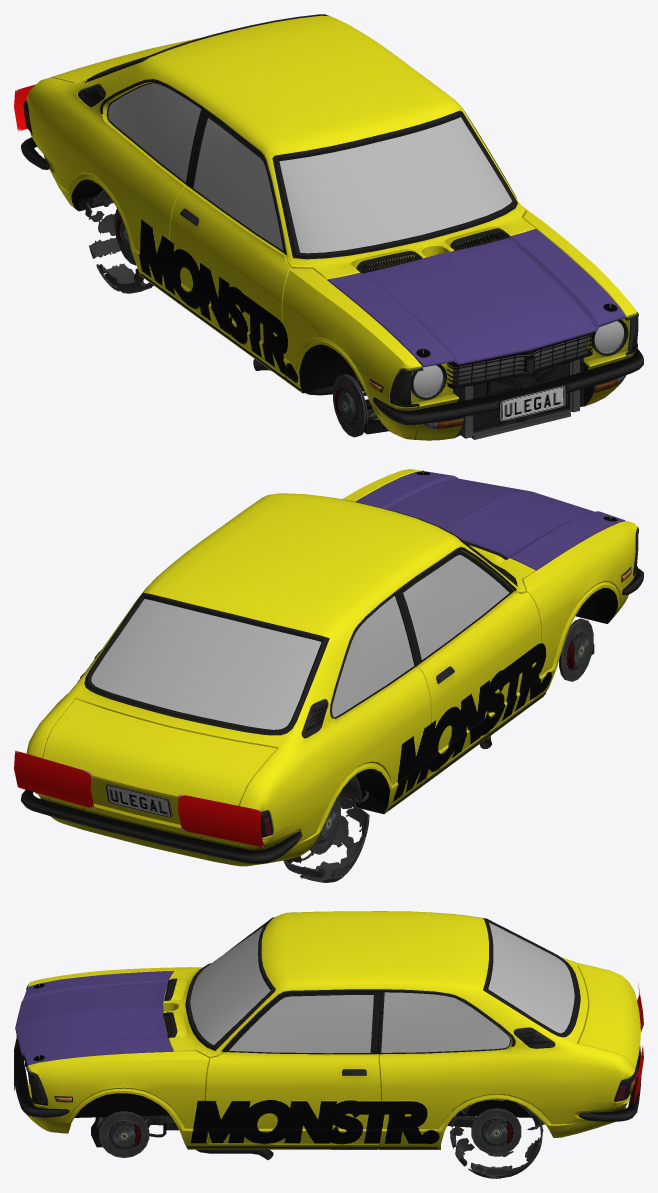
Rendered from 41_ULEGAL.fbx.
3 renders of one model, top to bottom at view 1: azimuth 30°, elevation 25°; view 2: azimuth 150°, elevation 25°; view 3: azimuth 270°, elevation 25°, orthographic. The views are drawn at different scales.
Visible parts, largest first — view 1: body_duco, body_glass, Kit_02, body_glossy, body_matte, engine_bay, Rotor, NumberPlate; view 2: body_duco, body_glass, body_glossy, Kit_02, BrakeLights, body_matte, Rotor (×2), NumberPlate; view 3: body_duco, body_glass, Kit_02, body_glossy, body_matte, Rotor (×2).
Part boxes in pixels (left/top/right/bottom): body_duco: left=26, top=15, right=637, bottom=440; body_glass: left=108, top=83, right=624, bottom=396; Kit_02: left=327, top=229, right=625, bottom=367; body_glossy: left=21, top=14, right=643, bottom=428; body_matte: left=71, top=179, right=610, bottom=439; engine_bay: left=361, top=232, right=611, bottom=398; Rotor: left=333, top=374, right=367, bottom=437; NumberPlate: left=500, top=386, right=565, bottom=421; body_duco: left=26, top=469, right=637, bottom=866; body_glass: left=91, top=555, right=509, bottom=729; body_glossy: left=21, top=497, right=643, bottom=863; Kit_02: left=355, top=471, right=625, bottom=570; BrakeLights: left=14, top=750, right=264, bottom=847; body_matte: left=88, top=587, right=617, bottom=866; Rotor (×2): left=310, top=618, right=593, bottom=854; NumberPlate: left=105, top=784, right=172, bottom=817; body_duco: left=27, top=911, right=640, bottom=1149; body_glass: left=190, top=922, right=574, bottom=1053; Kit_02: left=15, top=971, right=173, bottom=1065; body_glossy: left=14, top=917, right=641, bottom=1148; body_matte: left=25, top=1062, right=531, bottom=1159; Rotor (×2): left=99, top=1108, right=521, bottom=1157.
Size of what is drawn, in the model's own units: 1.53 by 1.38 by 4.04.
